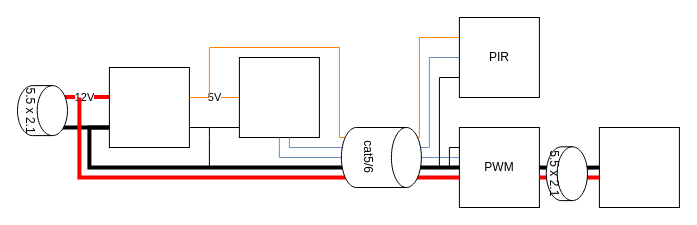
The diagram is 697 pixels wide and 225 high, and some of its shapes have lost their labels. The shapes that lost their labels are listed below. From the top down, each one's centre as x and y in pixels, then its label:
At (x=148, y=107): "Buck".
At (x=278, y=97): "ESP".
At (x=638, y=167): "LED".
